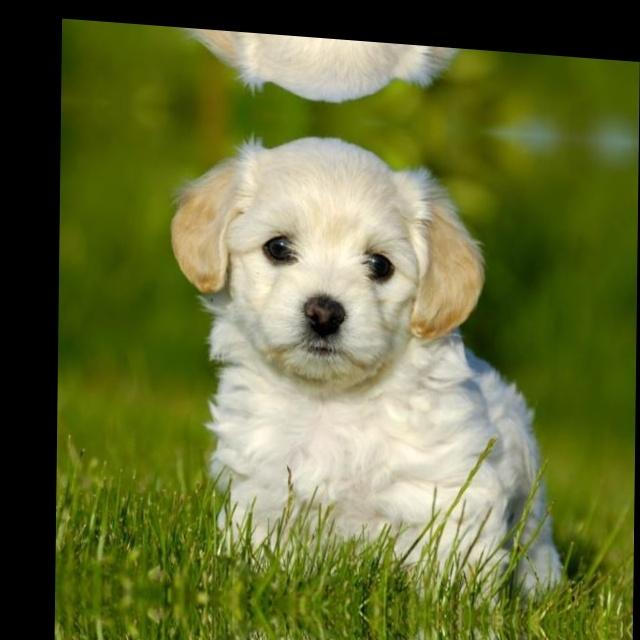dog: (148, 111, 588, 602), (154, 26, 588, 136), (147, 618, 581, 640)
